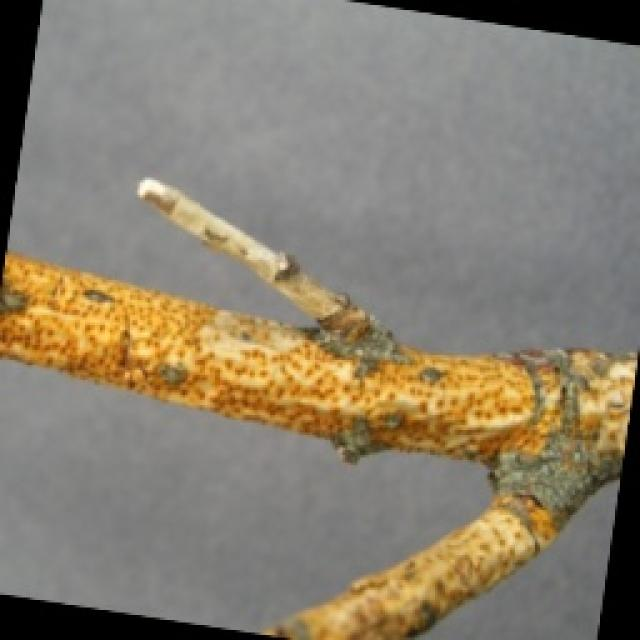Golden_canker: (5, 193, 640, 635)
